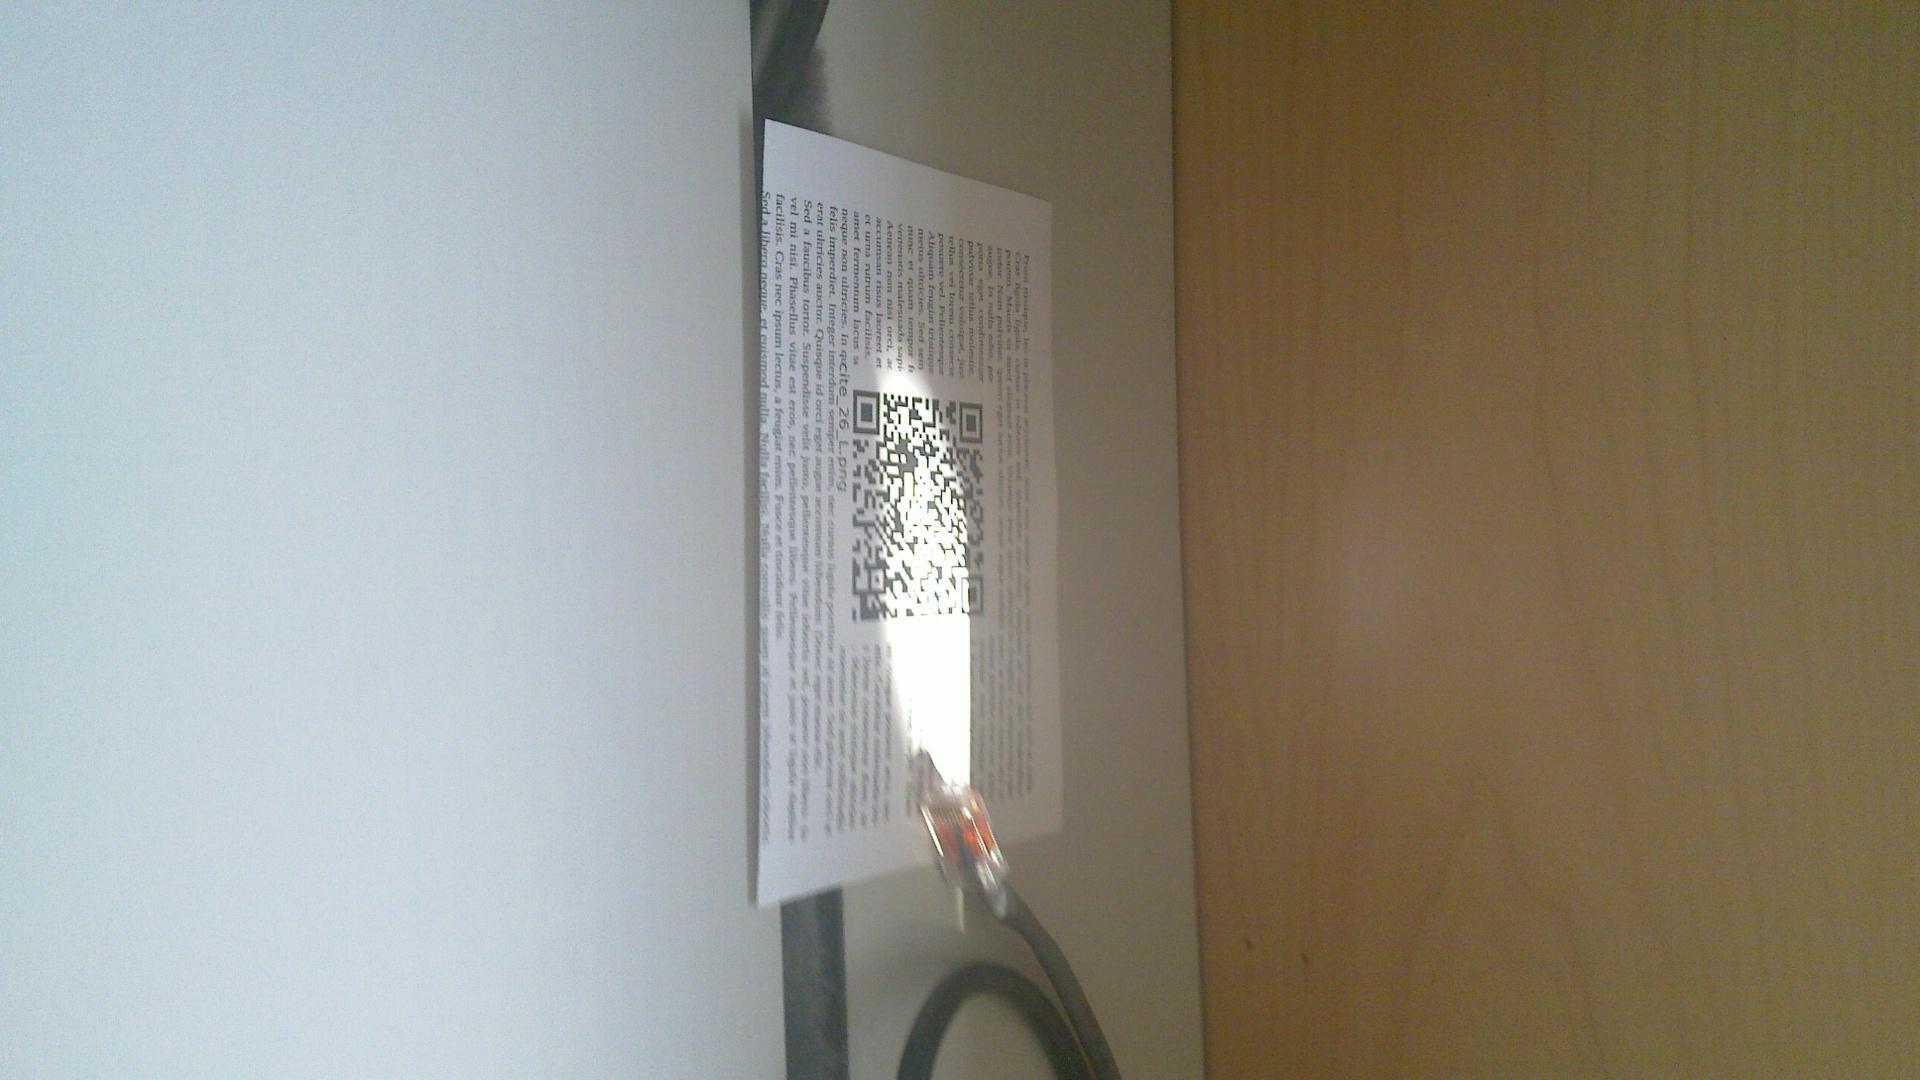Finder pattern: (847, 385, 887, 436), (956, 397, 988, 450), (957, 571, 988, 620)
